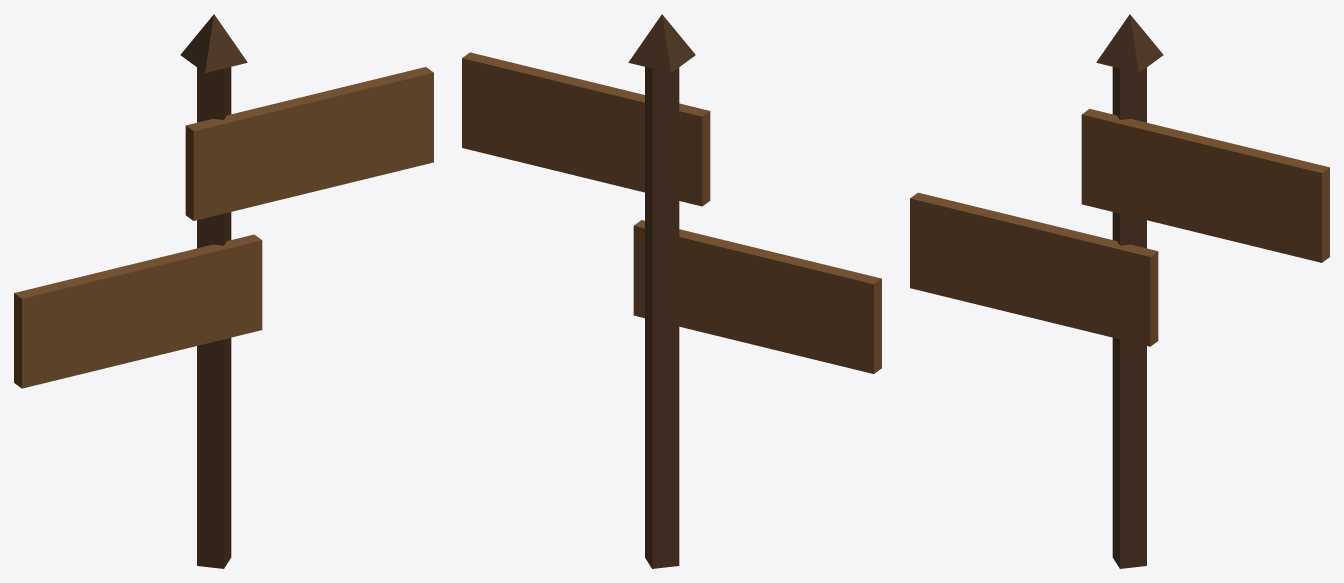
File: signpost.fbx
The picture shows the model from 3 angles, left to right: view 1: azimuth 30°, elevation 25°; view 2: azimuth 150°, elevation 25°; view 3: azimuth 330°, elevation 25°; orthographic projection.
Visible parts, largest first — view 1: signpost; view 2: signpost; view 3: signpost.
Boxes of the visible parts, left/top/right/bottom form: signpost: left=14, top=14, right=433, bottom=568; signpost: left=462, top=14, right=881, bottom=568; signpost: left=910, top=14, right=1329, bottom=568.
Size of the model in its own units: 2.4 by 3.05 by 0.265.
Materials: 1 (1 with a texture image).
